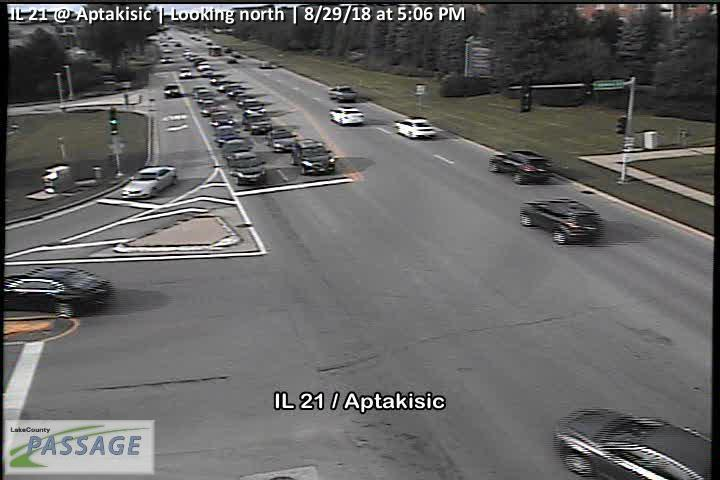SUV: (519, 196, 601, 245), (488, 151, 550, 184)
Sedan: (553, 405, 712, 480), (3, 268, 116, 316), (122, 166, 177, 198), (290, 140, 335, 172), (230, 152, 265, 183), (394, 117, 436, 140), (330, 105, 364, 125), (218, 138, 250, 156), (267, 130, 296, 149), (244, 114, 272, 132), (328, 85, 356, 101), (215, 126, 238, 139)
